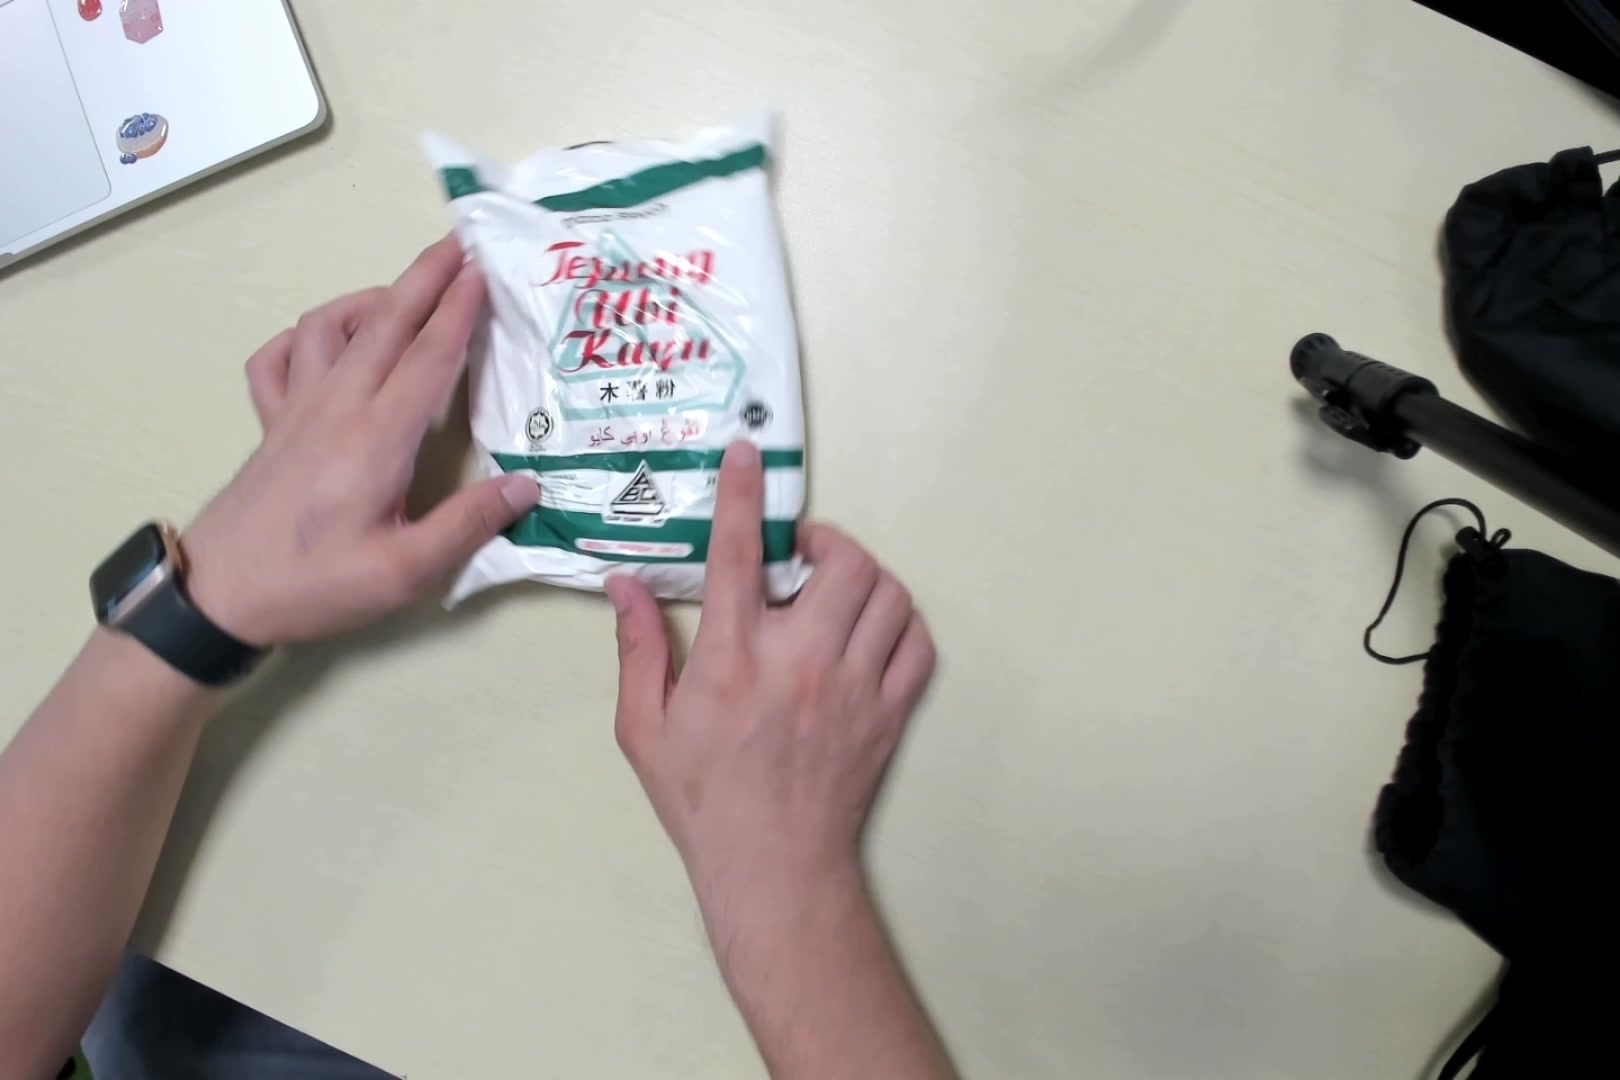Flour_500-599g_Halal_NonHealthy: (446, 142, 810, 607)
